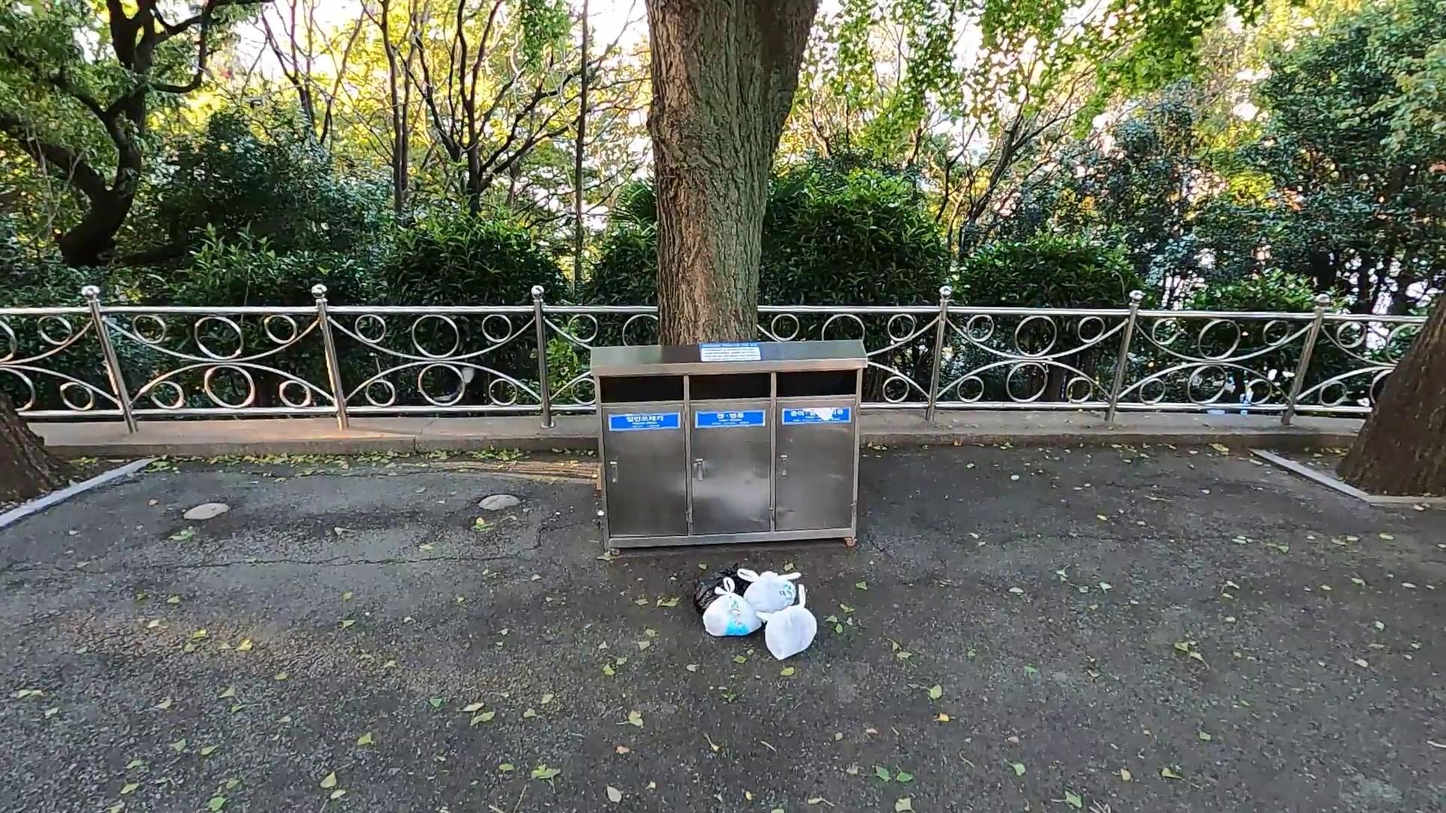trash: (703, 578, 764, 638), (755, 606, 820, 661), (739, 567, 797, 614), (693, 568, 748, 616)
